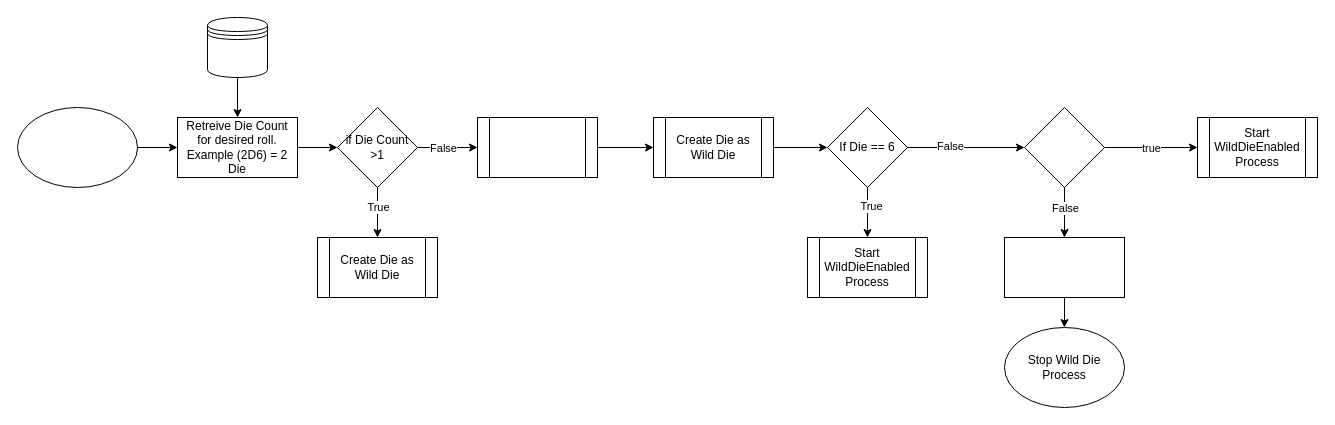
Some shapes in this 1335 by 425 pixel diagram are drawn without their labels. The box of each missing label's shape, as (x1, y1, x2, y2) in pixels:
Create Die: (476, 116, 598, 178)
If Die == 1: (1024, 106, 1104, 188)
Return Die as Roll Result, in desired format (Int, Float, etc.): (1004, 236, 1124, 298)
Start Wild Die process: (16, 106, 138, 188)
